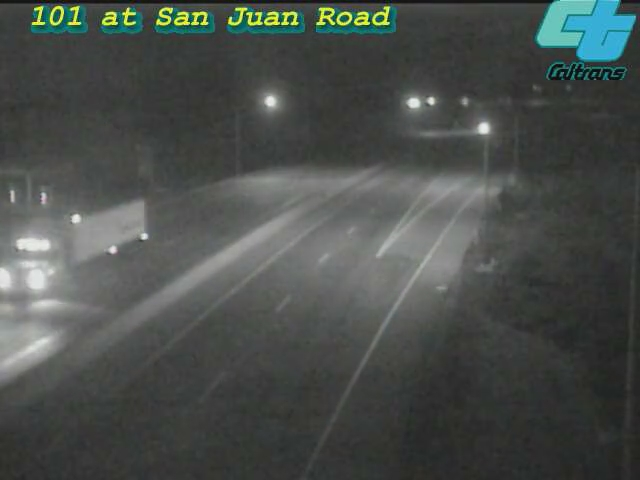vehicle: (47, 200, 127, 280), (455, 102, 505, 152)
